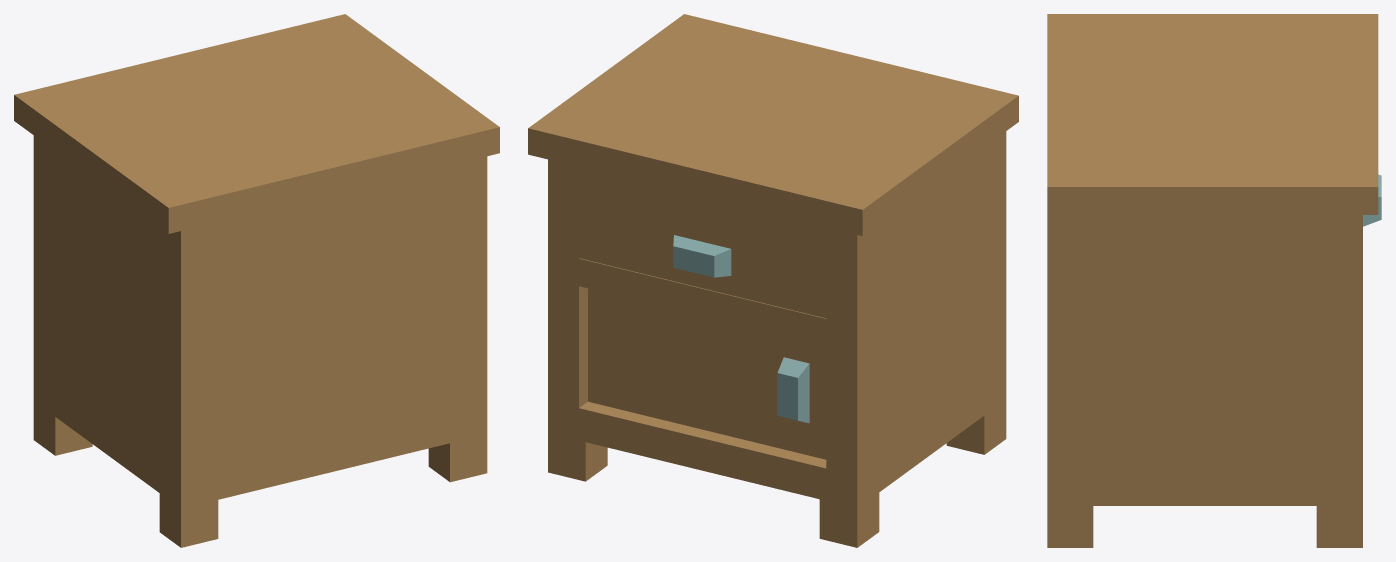
File: cabinetBedDrawer.glb
3 views of the same model, side by side, from view 1: azimuth 30°, elevation 25°; view 2: azimuth 150°, elevation 25°; view 3: azimuth 270°, elevation 25° (orthographic). The views are drawn at different scales.
Visible parts, largest first — view 1: cabinetBedDrawer; view 2: cabinetBedDrawer; view 3: cabinetBedDrawer.
Part boxes in pixels (bbox=[...]): cabinetBedDrawer: bbox=[14, 14, 499, 547]; cabinetBedDrawer: bbox=[528, 14, 1018, 547]; cabinetBedDrawer: bbox=[1047, 14, 1381, 547].
Bounding box in the file's own units: 0.532 × 0.5264 × 0.4346.
